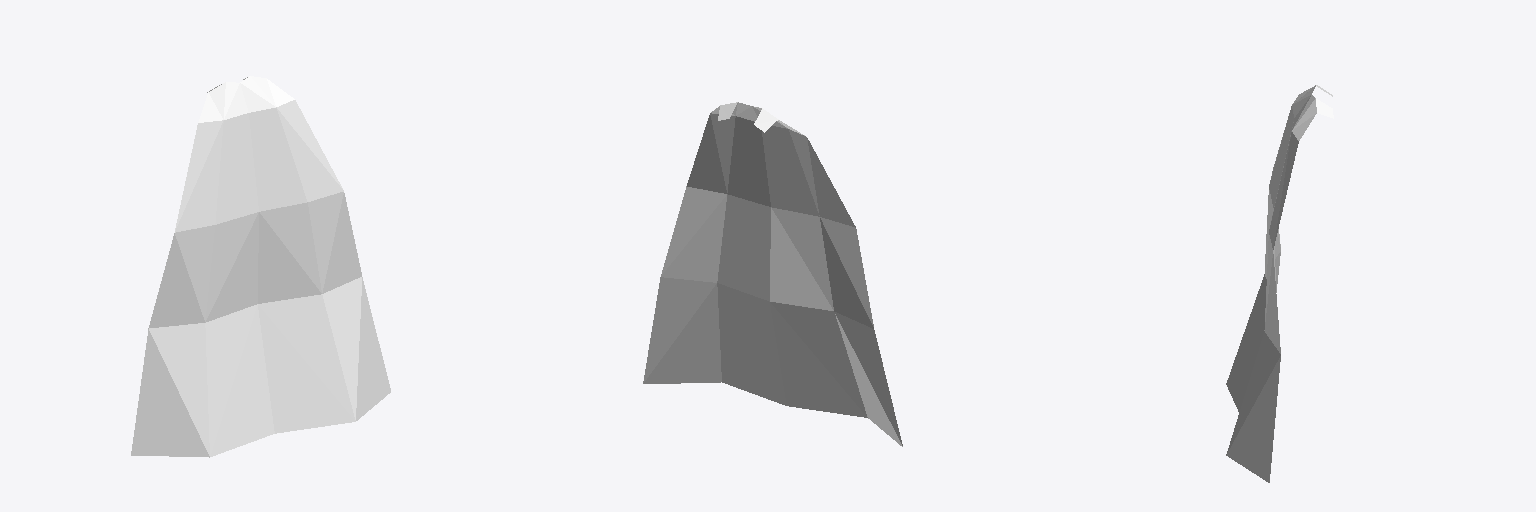
The model's file is 0_kn_cape_15.obj.
3 views of the same model, side by side, from view 1: azimuth 30°, elevation 25°; view 2: azimuth 150°, elevation 25°; view 3: azimuth 270°, elevation 25° (orthographic).
Visible parts, largest first — view 1: defaultobject; view 2: defaultobject; view 3: defaultobject.
Boxes of the visible parts, <box> form: defaultobject: <box>131,76,390,457</box>; defaultobject: <box>643,102,902,446</box>; defaultobject: <box>1226,85,1333,482</box>.
Size of the model in its own units: 41.27 by 49.66 by 14.79.